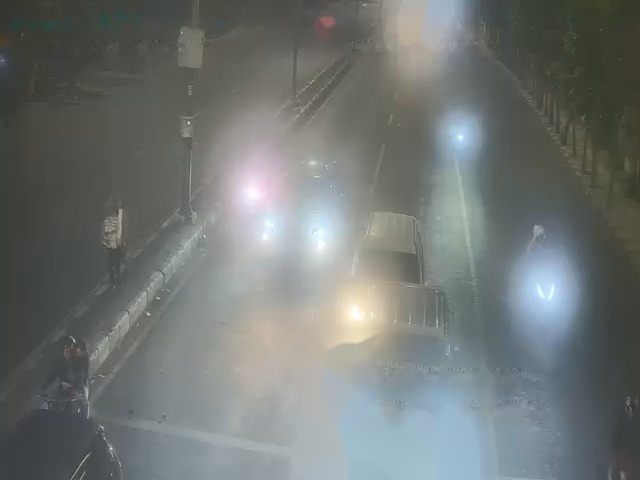Mobil: (346, 283, 460, 454), (344, 206, 430, 315), (264, 147, 340, 257)
Motor: (528, 268, 566, 320), (42, 375, 85, 416), (448, 124, 469, 154)
